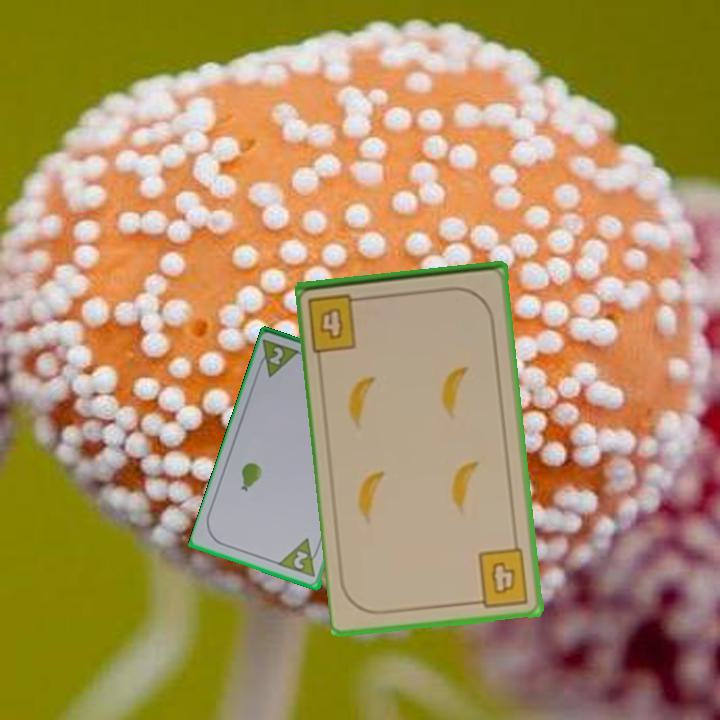2p: (253, 336, 305, 381), (276, 535, 324, 580)
4b: (304, 290, 370, 355), (469, 545, 532, 610)
